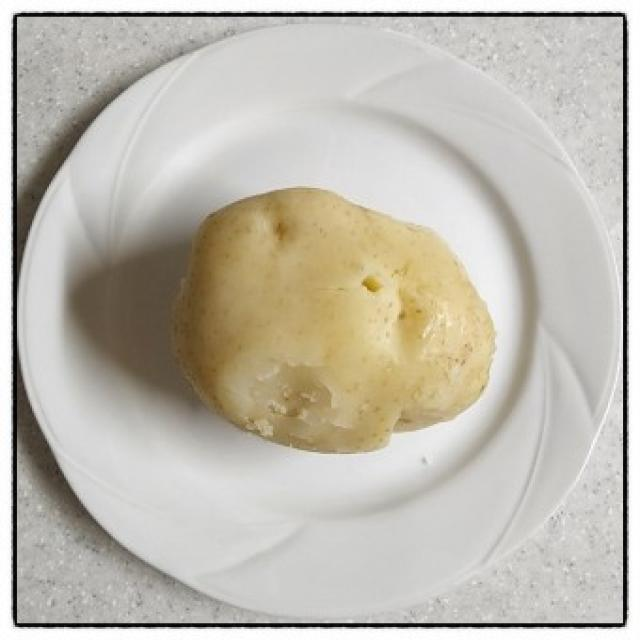potato: (172, 182, 503, 462)
